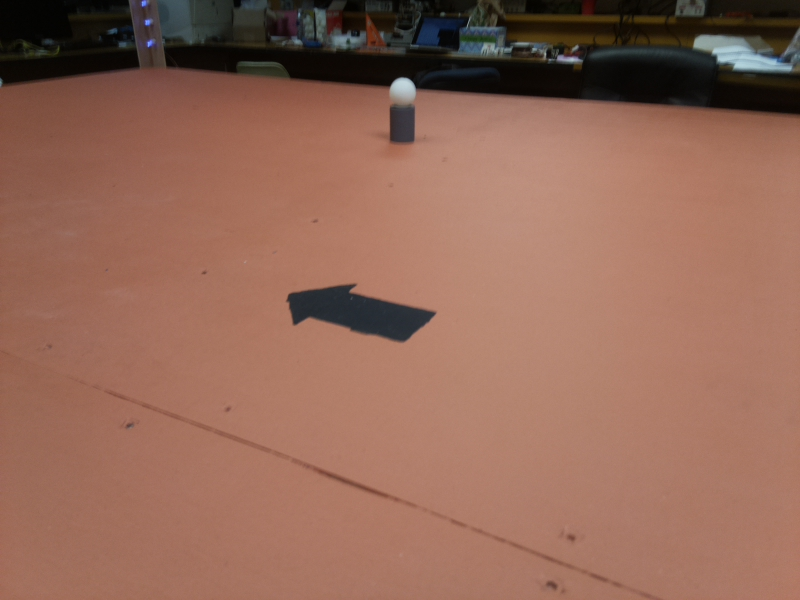obstacle: (384, 79, 420, 143)
start: (284, 279, 440, 349)
